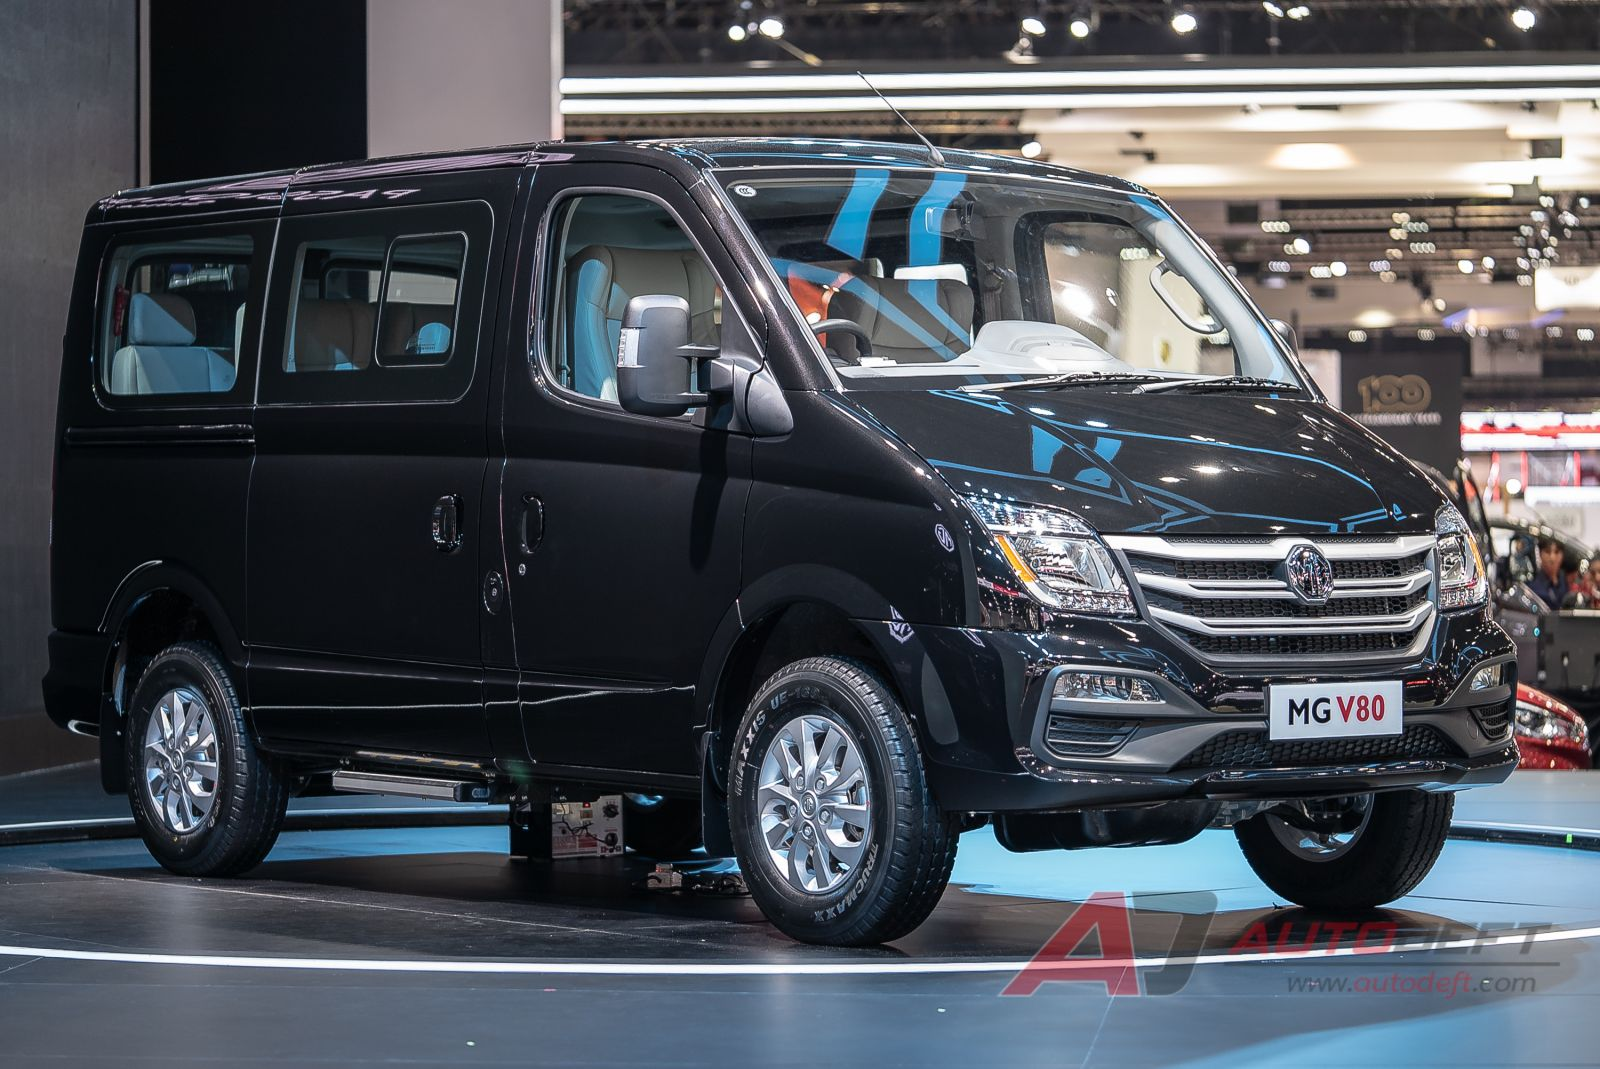van: (38, 135, 1526, 943)
